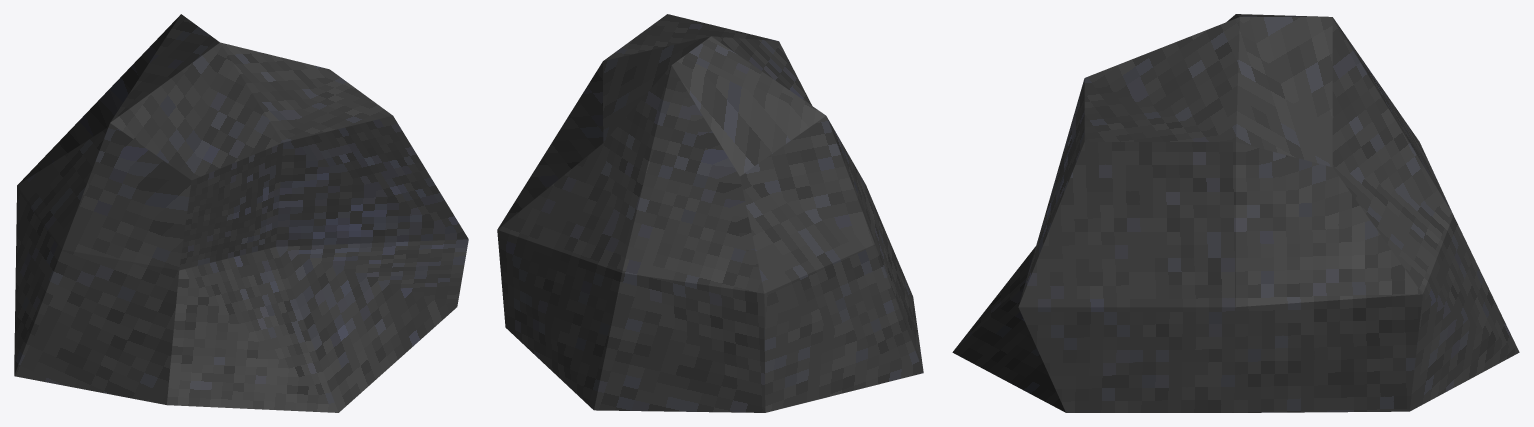
The model's file is rock04.glb.
The picture shows the model from 3 angles, left to right: view 1: azimuth 30°, elevation 25°; view 2: azimuth 150°, elevation 25°; view 3: azimuth 270°, elevation 25°; orthographic projection. The views are drawn at different scales.
Visible parts, largest first — view 1: Cube; view 2: Cube; view 3: Cube.
Part boxes in pixels (x1,y1,x2,y2): Cube: (14,14,468,412); Cube: (497,14,923,412); Cube: (952,14,1519,412).
Bounding box in the file's own units: 5.53 × 4.07 × 6.11.
Materials: 1 (1 with a texture image).
